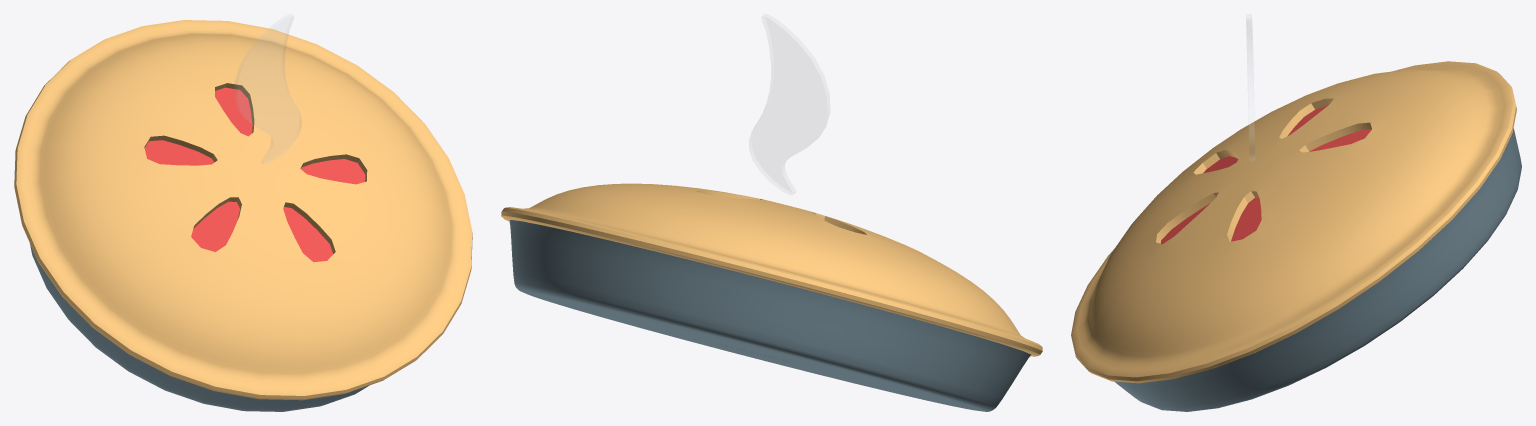
Rendered from pie.fbx.
3 views of the same model, side by side, from view 1: azimuth 30°, elevation 25°; view 2: azimuth 150°, elevation 25°; view 3: azimuth 270°, elevation 25° (orthographic). The views are drawn at different scales.
Parts seen in each view (by area): view 1: Sphere.497; view 2: Sphere.497; view 3: Sphere.497.
Boxes of the visible parts, x1,y1,x2,y2 form: Sphere.497: (14,14,472,411); Sphere.497: (501,14,1042,411); Sphere.497: (1071,14,1521,411).
Bounding box in the file's own units: 234 × 188 × 206.
Materials: 2 (1 with a texture image).
